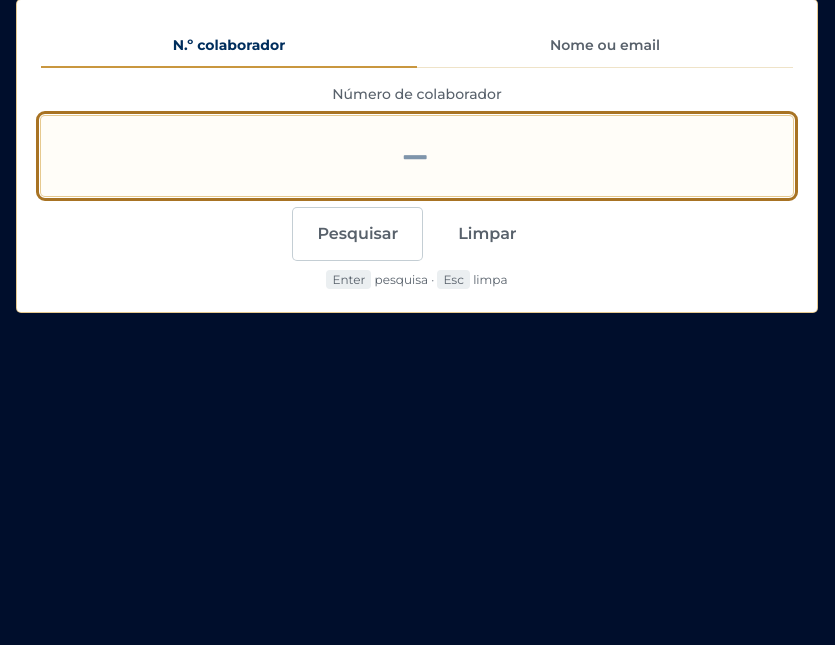
Scenario: pesquisa por nome ou email › escolher um resultado abre o cartão e o Enter seguinte entrega
Click the tab "Nome ou email" at (605, 46), box x1=417 y1=24 x2=793 y2=68
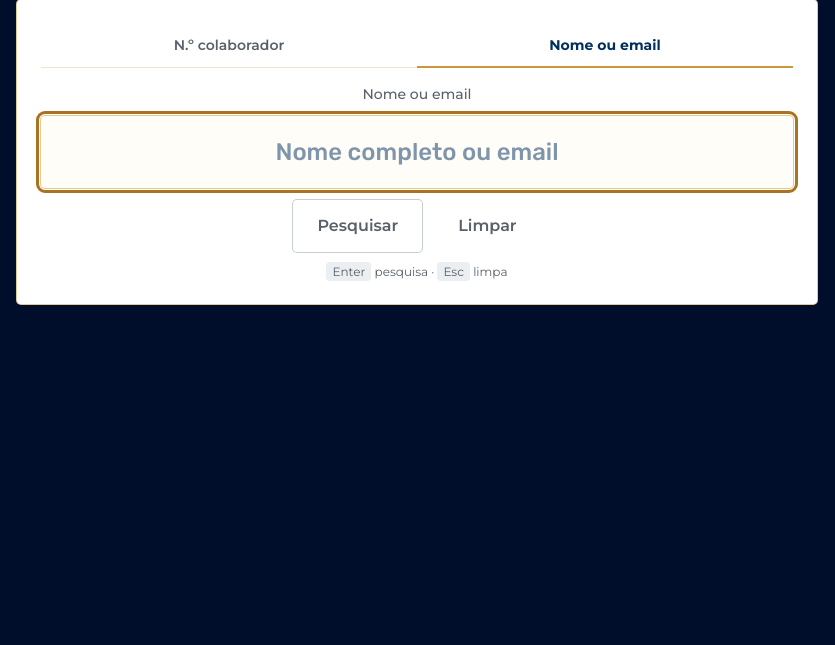
Type "João " into the field labelled "Nome ou email" at (417, 152), box x1=41 y1=116 x2=793 y2=188
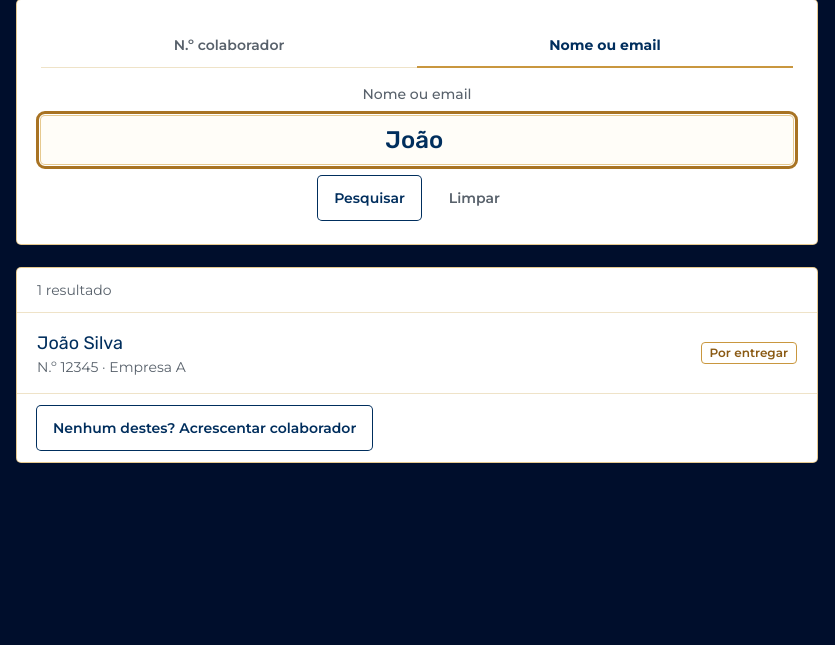
Click the text "João Silva" at (80, 343), box x1=37 y1=332 x2=123 y2=354
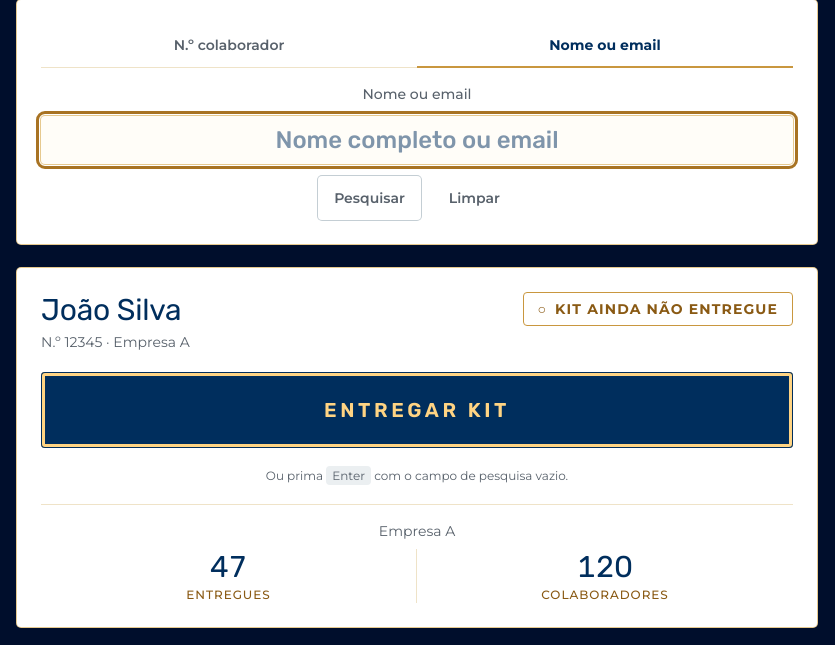
Result: the text "KIT AINDA NÃO ENTREGUE" is shown at x1=555 y1=300 x2=778 y2=318
Press Enter
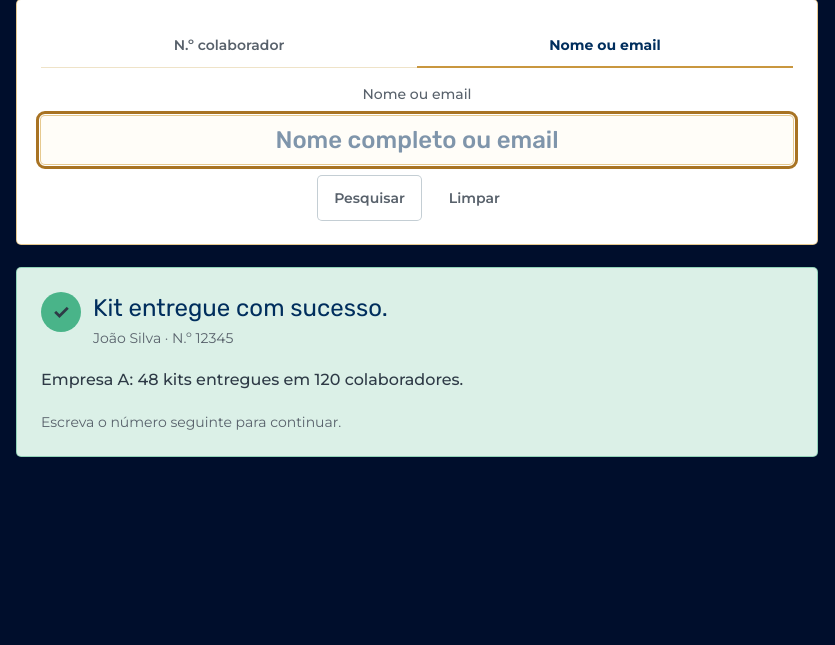
Result: the text "Kit entregue com sucesso." is shown at x1=93 y1=292 x2=388 y2=324
